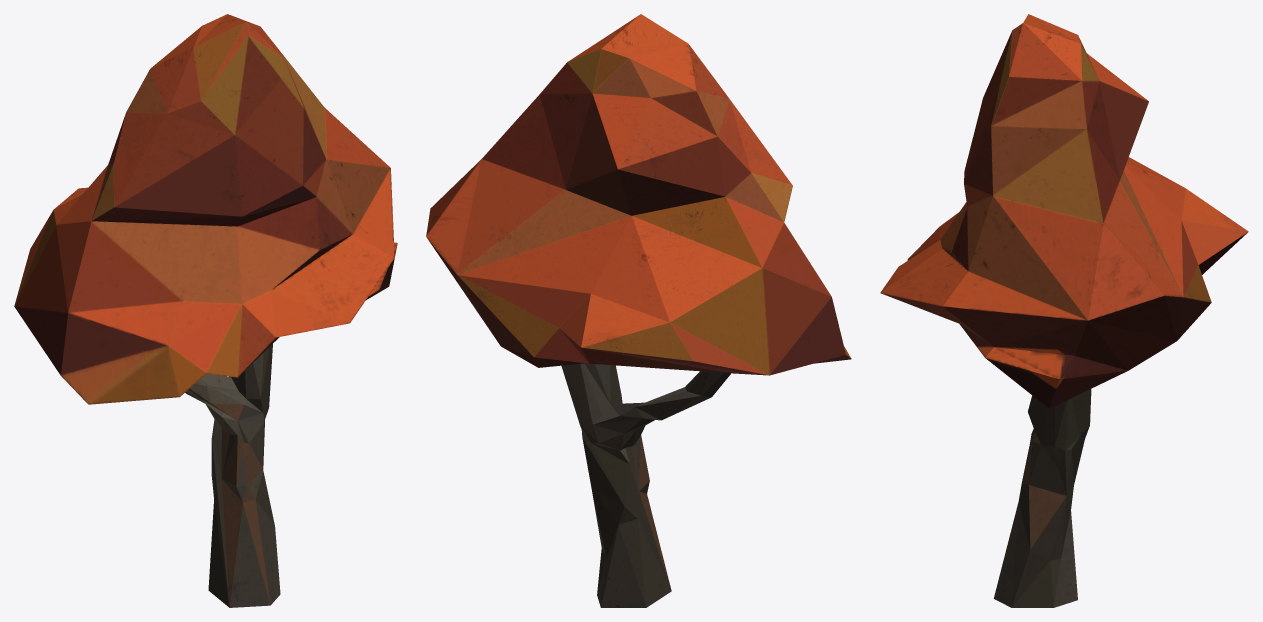
File: tree3.fbx
3 renders of one model, left to right at view 1: azimuth 30°, elevation 25°; view 2: azimuth 150°, elevation 25°; view 3: azimuth 270°, elevation 25°, orthographic.
Visible parts, largest first — view 1: node_id227; view 2: node_id227; view 3: node_id227.
Boxes of the visible parts, x1,y1,x2,y2 form: node_id227: (14, 14, 397, 607); node_id227: (426, 14, 851, 607); node_id227: (880, 14, 1248, 607).
Bounding box in the file's own units: 0.8015 × 1.18 × 0.6923.
1 material, 1 textured.
